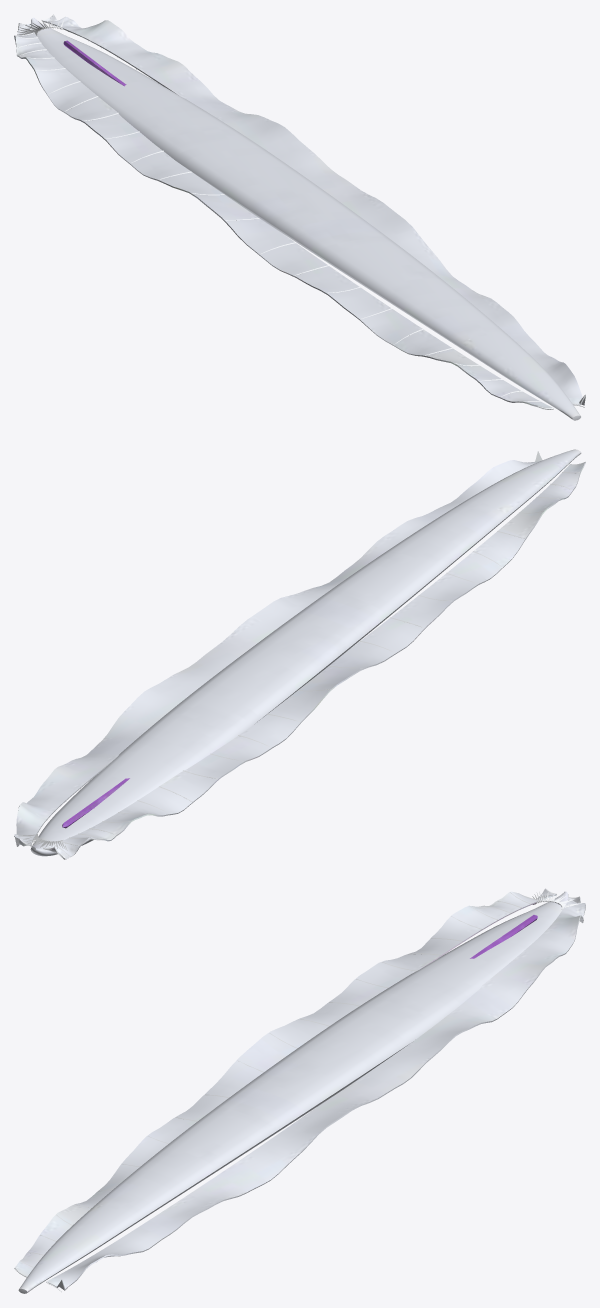
The model's file is mars_ribbon.glb.
3 views of the same model, one above another, from view 1: azimuth 30°, elevation 25°; view 2: azimuth 150°, elevation 25°; view 3: azimuth 330°, elevation 25° (orthographic).
Parts seen in each view (by area): view 1: ribbon_body; view 2: ribbon_body; view 3: ribbon_body.
Boxes of the visible parts, left/top/right/bottom form: ribbon_body: left=14, top=14, right=585, bottom=420; ribbon_body: left=14, top=449, right=585, bottom=859; ribbon_body: left=14, top=888, right=585, bottom=1293.
Bounding box in the file's own units: 0.0644 × 0.0143 × 0.4253.
Materials: 3 (2 with a texture image).
